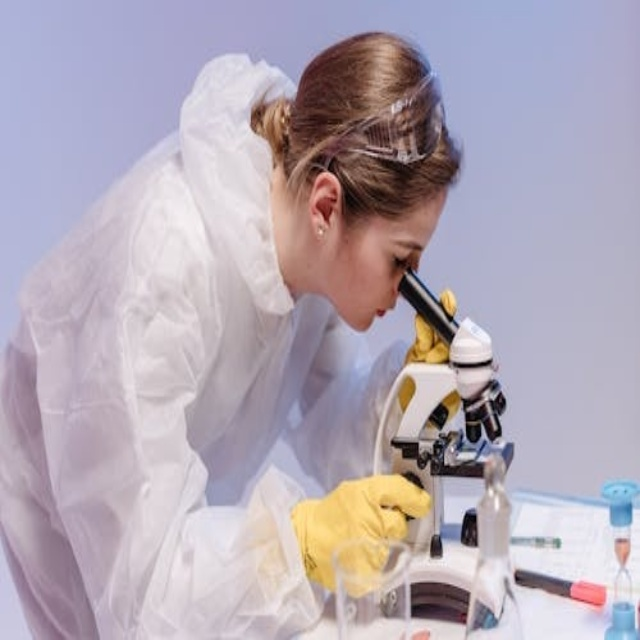Guantes: (290, 472, 432, 597), (399, 290, 461, 425)
Sin_gafas: (393, 252, 412, 273)
Sin_mascara: (346, 293, 394, 335)
